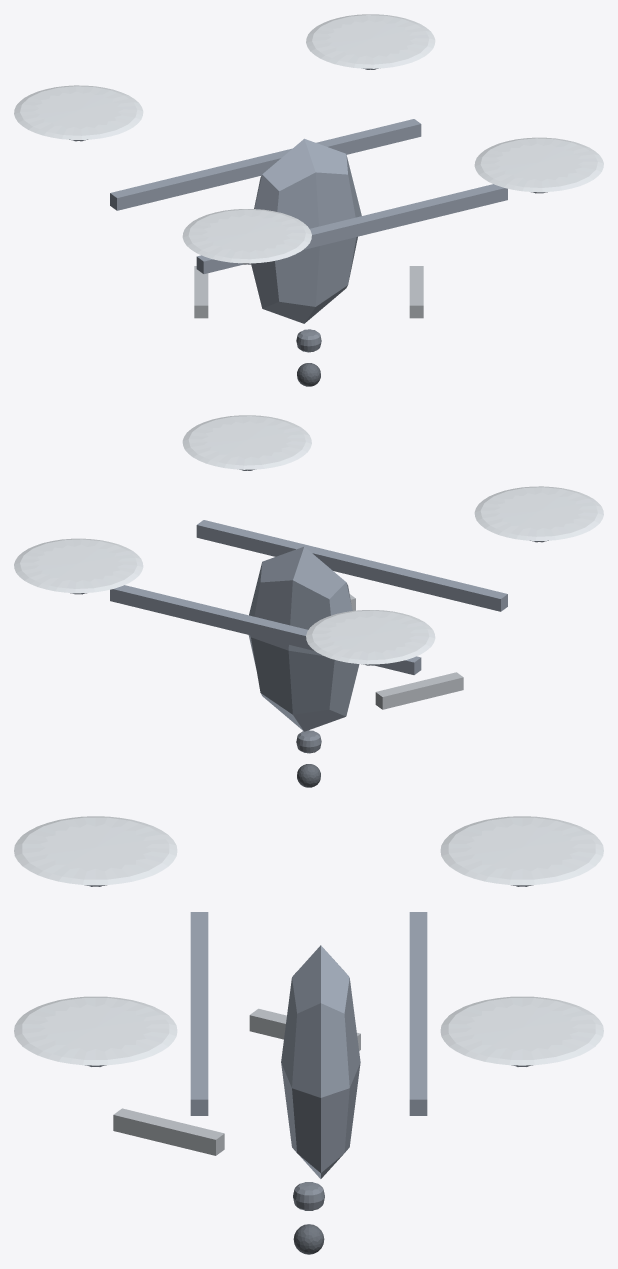
Rendered from drone.glb.
3 renders of one model, top to bottom at view 1: azimuth 30°, elevation 25°; view 2: azimuth 150°, elevation 25°; view 3: azimuth 270°, elevation 25°, orthographic. The views are drawn at different scales.
Visible parts, largest first — view 1: Drone; view 2: Drone; view 3: Drone.
Boxes of the visible parts, <box> form: Drone: <box>14,14,603,386</box>; Drone: <box>14,415,603,787</box>; Drone: <box>14,816,603,1254</box>.
Size of the model in its own units: 0.996 by 0.588 by 0.996.
